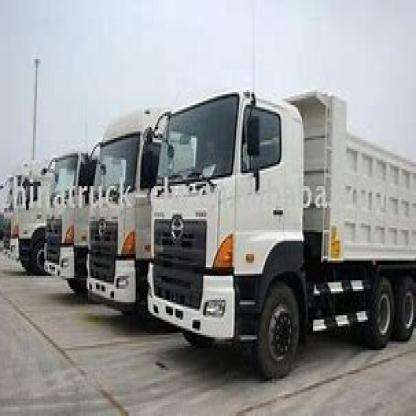dump_truck: (150, 97, 414, 374), (86, 110, 152, 324), (43, 134, 85, 302)
